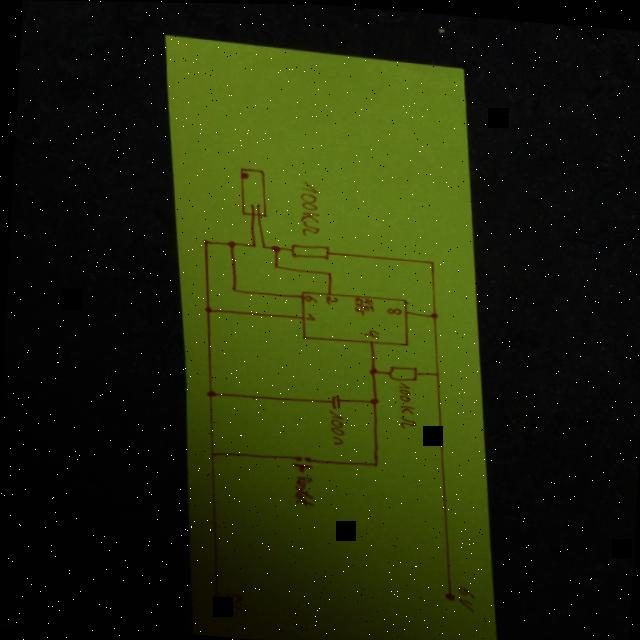capacitor: (327, 392, 342, 409)
junction: (203, 387, 216, 397), (427, 309, 438, 319), (366, 365, 377, 375), (269, 243, 281, 252), (224, 239, 236, 248), (367, 395, 379, 404), (368, 459, 378, 467), (200, 237, 211, 244), (227, 285, 237, 292), (206, 450, 216, 457), (203, 304, 211, 312), (271, 261, 279, 268), (324, 268, 332, 275), (249, 242, 256, 248), (260, 242, 267, 248), (431, 370, 438, 376), (427, 259, 434, 263)
resistor: (288, 240, 331, 260), (386, 363, 419, 381)
switch: (235, 166, 271, 218), (289, 453, 313, 472)
terminal: (207, 591, 222, 604), (440, 589, 455, 599)
text: (297, 179, 323, 236), (393, 380, 417, 429), (290, 473, 314, 506), (324, 409, 345, 444), (453, 583, 475, 611), (350, 294, 375, 315), (222, 591, 241, 614), (361, 326, 380, 337), (384, 304, 402, 315), (321, 293, 338, 304), (303, 293, 318, 302), (303, 311, 316, 320)
